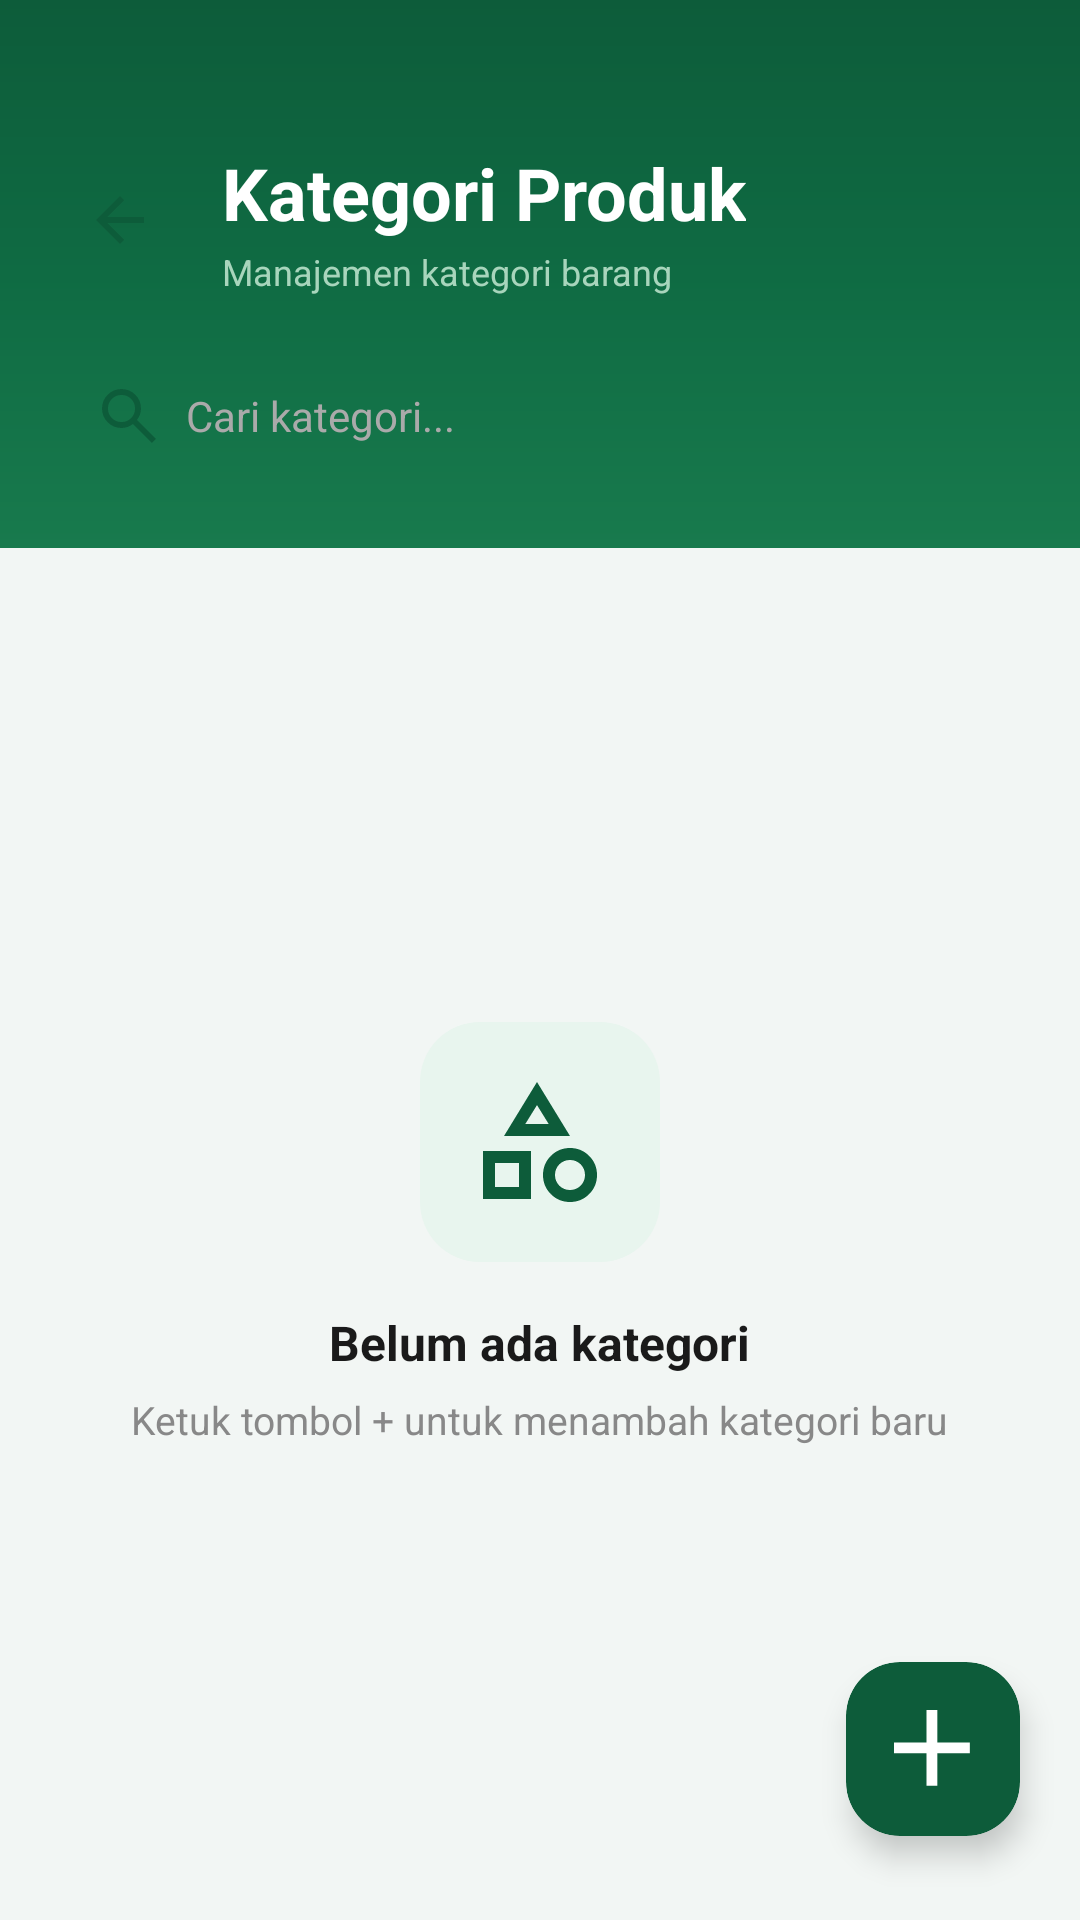

Icon click points for this 1080w x 1920h phone screenshot, format [x,y]:
Tambah: [932,1748]
